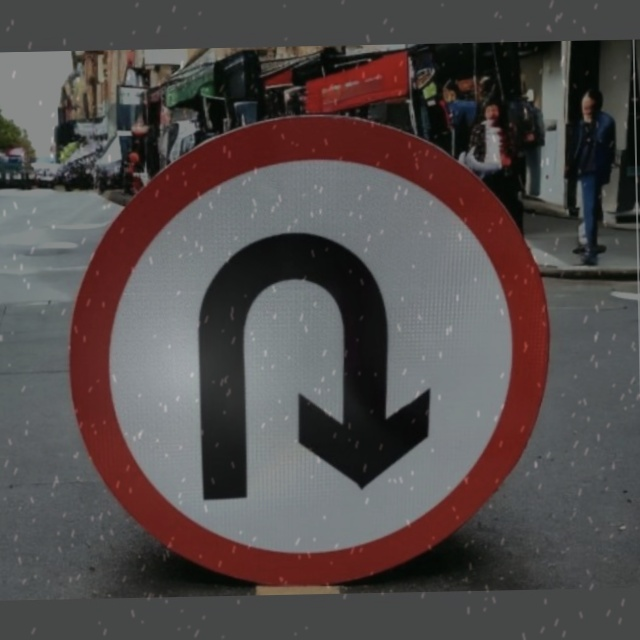U_Turn_Ahead: (122, 167, 523, 549)
